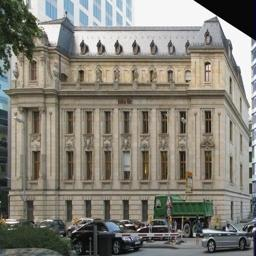building: (9, 16, 224, 232)
